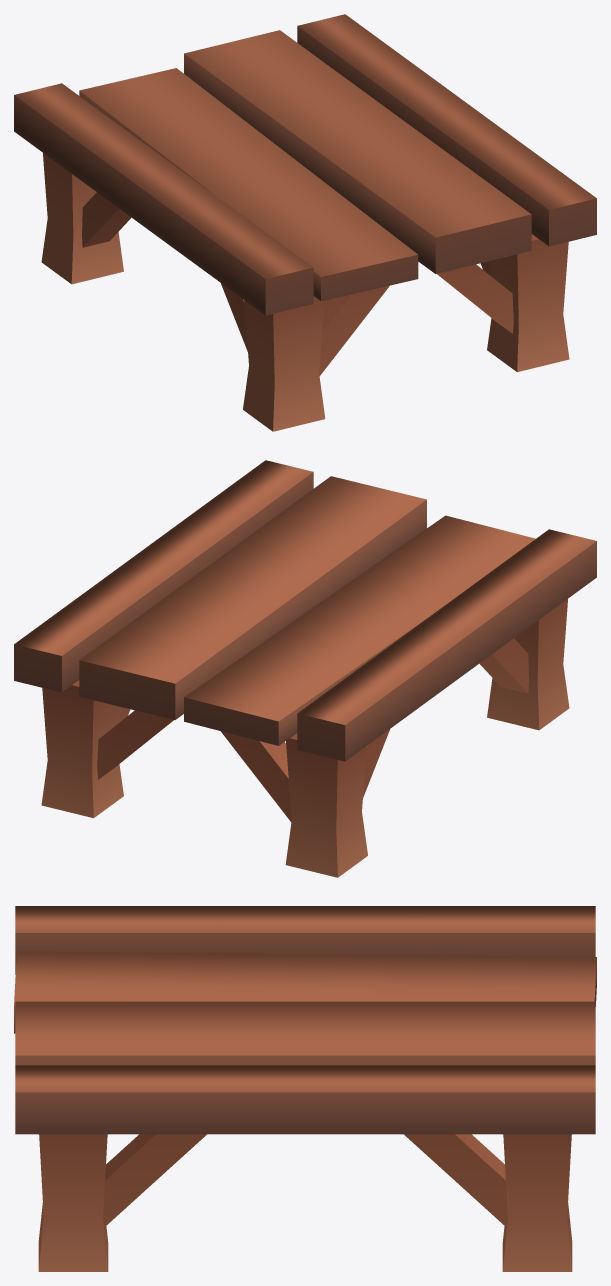
Rendered from structure-platform-small.glb.
The picture shows the model from 3 angles, top to bottom: view 1: azimuth 30°, elevation 25°; view 2: azimuth 150°, elevation 25°; view 3: azimuth 270°, elevation 25°; orthographic projection. The views are drawn at different scales.
Parts seen in each view (by area): view 1: structure-platform-small; view 2: structure-platform-small; view 3: structure-platform-small.
Part boxes in pixels (x1,y1,x2,y2): structure-platform-small: (14,14,596,431); structure-platform-small: (14,460,596,877); structure-platform-small: (14,906,596,1271).
Bounding box in the file's own units: 1.9 × 0.9 × 2.51.
